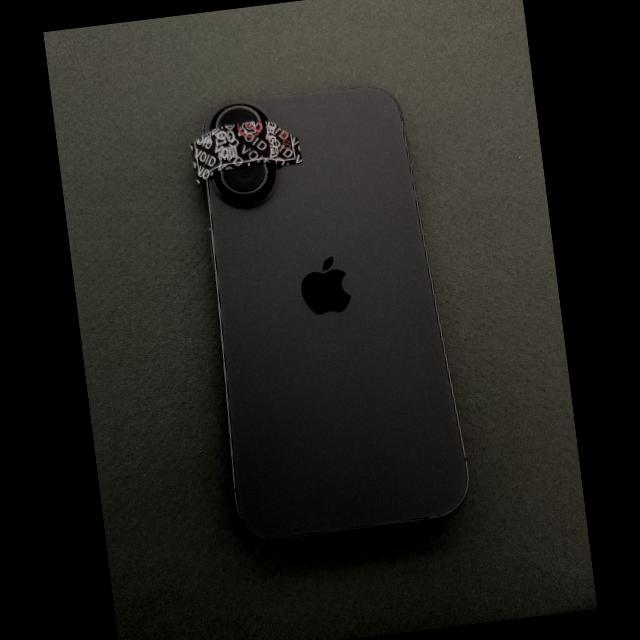lens: (222, 164, 269, 193), (218, 107, 261, 126)
phone: (201, 87, 468, 541)
sticker: (191, 120, 302, 181)
